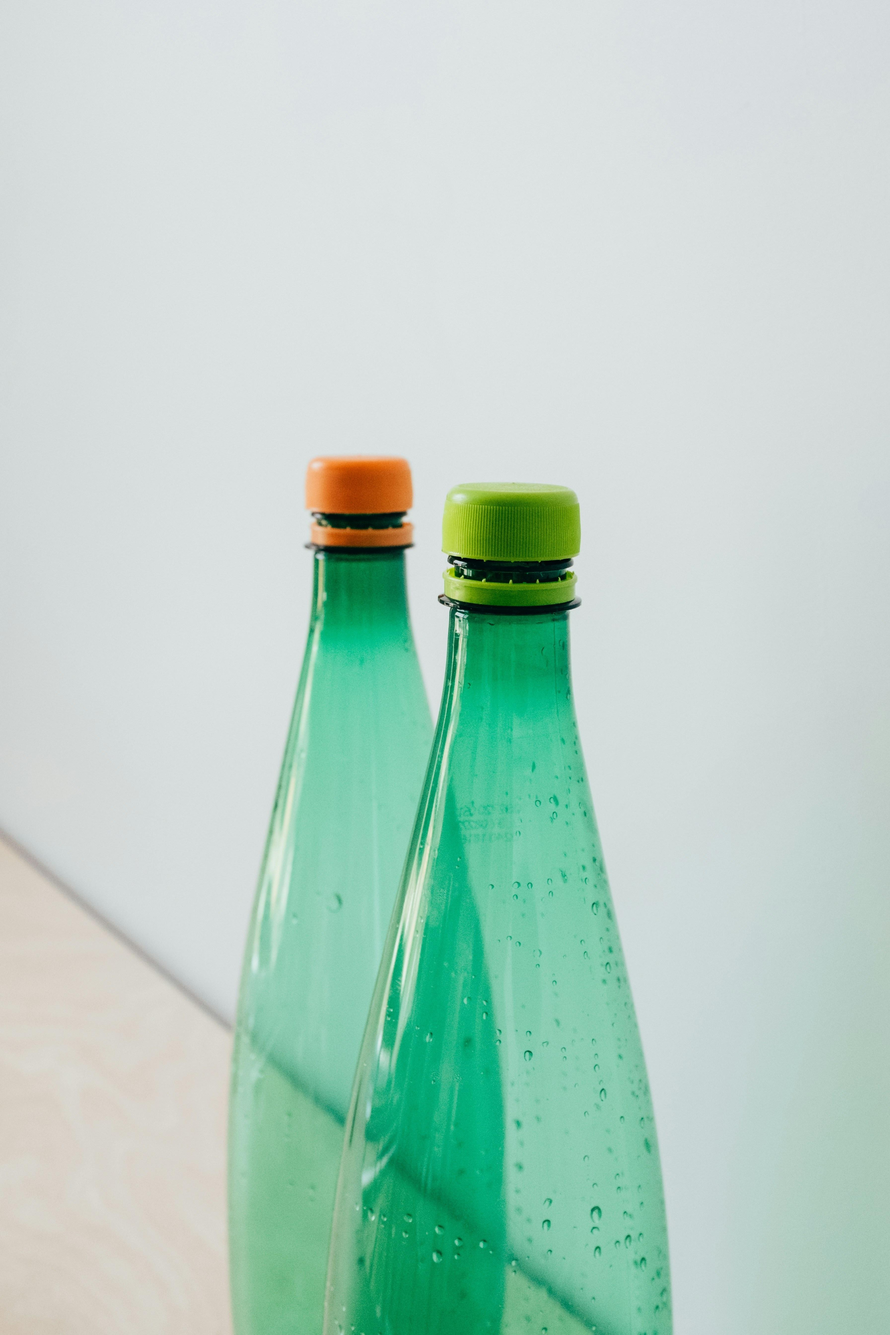Bottle-Detection: (320, 467, 717, 1335), (211, 410, 521, 1335)
